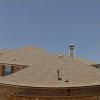Chimney: (51, 37, 93, 74)
